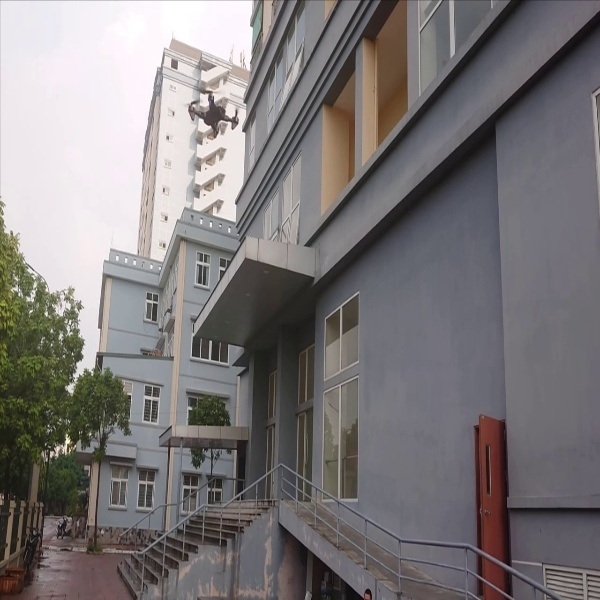drone: (183, 77, 241, 140)
